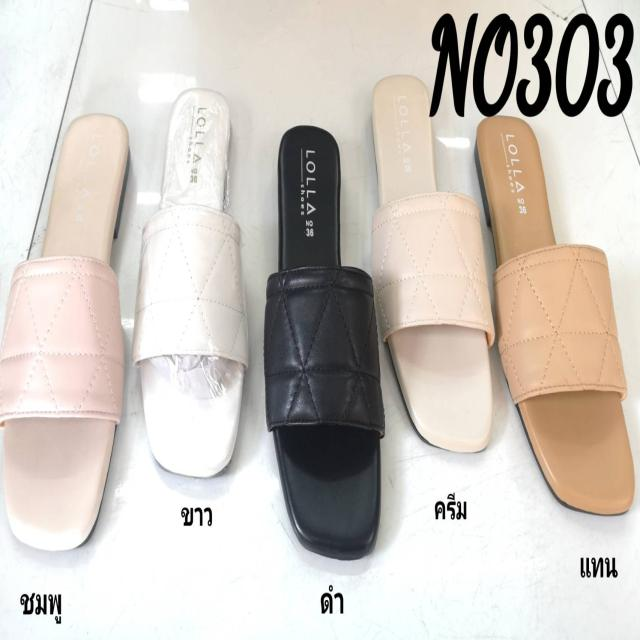black: (267, 123, 383, 558)
cream: (376, 75, 493, 452)
pink: (2, 115, 129, 552)
tan: (476, 116, 636, 516)
white: (138, 89, 246, 478)
